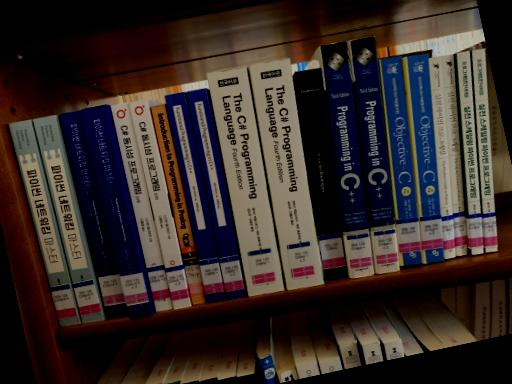book-spine: (207, 66, 285, 296), (249, 58, 324, 290), (82, 104, 153, 318), (32, 114, 104, 323), (9, 119, 81, 326), (59, 110, 129, 318), (110, 102, 174, 311), (129, 98, 191, 309), (164, 92, 226, 303), (321, 41, 374, 278), (186, 87, 245, 299), (350, 37, 400, 272), (295, 67, 348, 280), (150, 104, 206, 305), (380, 55, 423, 266), (405, 54, 444, 264), (457, 51, 484, 256), (429, 56, 455, 259), (472, 49, 498, 252), (442, 54, 468, 255)
